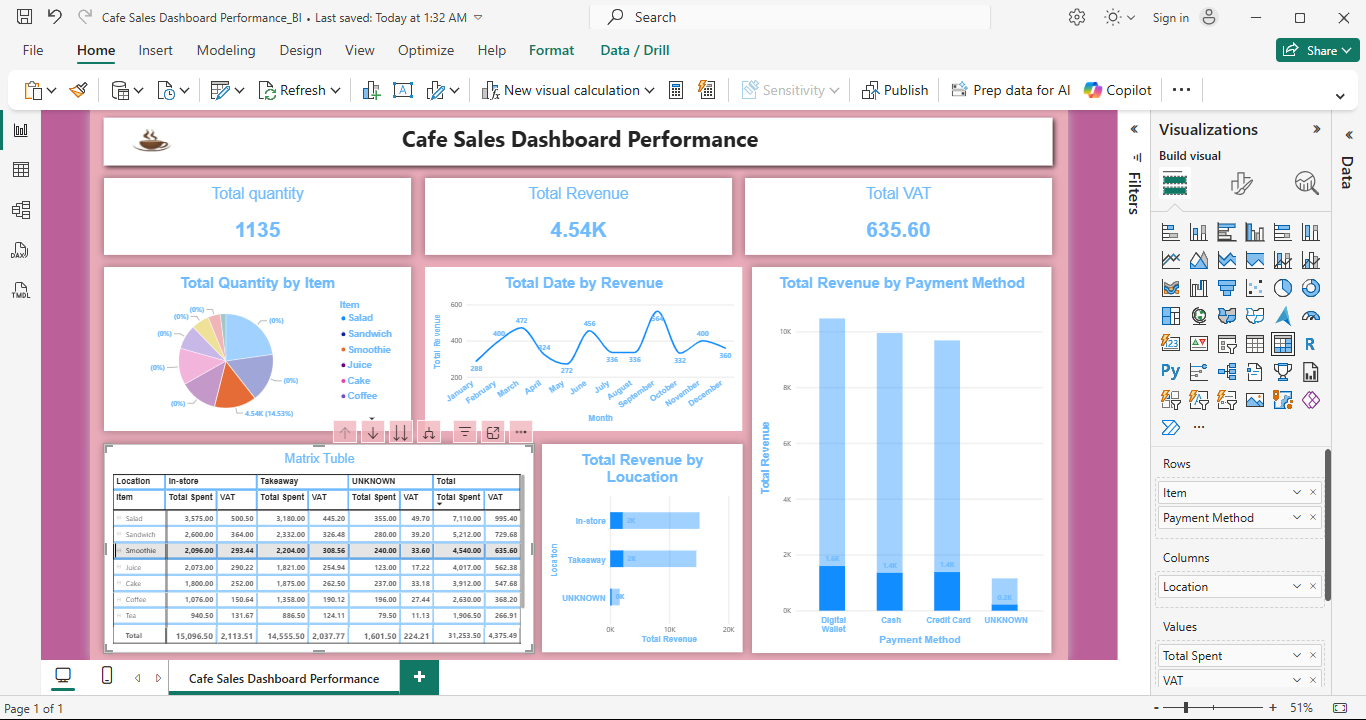

The page's visual inventory and layout, read from the dashboard file:
{"tool":"powerbi","page":{"name":"Cafe Sales Dashboard Performance ","canvas":[1920,1080],"ordinal":0},"visuals":[{"type":"pieChart","title":"Total  Quantity by Item","fields":{"Category":["Cafe_sales_clean.Item"],"Y":["Sum(Cafe_sales_clean.Total Spent)"]},"box":[26.8,307.6,602.8,322.1],"z":0},{"type":"shape","box":[12.4,0,1893.2,123.9],"z":1000},{"type":"textbox","box":[46.3,15.4,1842.6,92.6],"z":2000},{"type":"card","title":"Total quantity","fields":{"Values":["Sum(Cafe_sales_clean.Quantity)"]},"box":[26.8,134.2,602.8,150.7],"z":3000},{"type":"card","title":"Total VAT","fields":{"Values":["Cafe_sales_clean.VAT"]},"box":[1286.2,134.2,602.8,150.7],"z":4000},{"type":"card","title":"Total Revenue","fields":{"Values":["Sum(Cafe_sales_clean.Total Spent)"]},"box":[658.6,134.2,602.8,150.7],"z":5000},{"type":"lineChart","title":"Total  Date by Revenue","fields":{"Category":["Cafe_sales_clean.Transaction Date.Variation.Date Hierarchy.Year","Cafe_sales_clean.Transaction Date.Variation.Date Hierarchy.Quarter","Cafe_sales_clean.Transaction Date.Variation.Date Hierarchy.Month"],"Y":["Sum(Cafe_sales_clean.Total Spent)"]},"box":[658.6,307.6,623.5,322.1],"z":6000},{"type":"pivotTable","title":"Matrix Tuble","fields":{"Columns":["Cafe_sales_clean.Location"],"Rows":["Cafe_sales_clean.Item","Cafe_sales_clean.Payment Method"],"Values":["Sum(Cafe_sales_clean.Total Spent)","Cafe_sales_clean.VAT"]},"box":[26.8,656.5,844.4,408.8],"z":7000},{"type":"columnChart","title":"Total Revenue by Payment Method","fields":{"Category":["Cafe_sales_clean.Payment Method"],"Y":["Sum(Cafe_sales_clean.Total Spent)"]},"box":[1300.6,307.6,588.4,757.7],"z":8000},{"type":"barChart","title":"Total Revenue by  Loucation","fields":{"Category":["Cafe_sales_clean.Location"],"Y":["Sum(Cafe_sales_clean.Total Spent)"]},"box":[887.7,656.5,394.3,408.8],"z":8001},{"type":"image","box":[46.3,15.4,147.7,90.4],"z":8002}]}

Visuals, with their boxes on the page's 1920x1080 design canvas (x1, y1, x2, y2). These are canvas units, not pixel positions in the 1366x720 screenshot, which may show the page scaled, cropped or inside an application window:
"Total  Quantity by Item" pieChart: 27/308/630/630
shape: 12/0/1906/124
textbox: 46/15/1889/108
"Total quantity" card: 27/134/630/285
"Total VAT" card: 1286/134/1889/285
"Total Revenue" card: 659/134/1261/285
"Total  Date by Revenue" lineChart: 659/308/1282/630
"Matrix Tuble" pivotTable: 27/656/871/1065
"Total Revenue by Payment Method" columnChart: 1301/308/1889/1065
"Total Revenue by  Loucation" barChart: 888/656/1282/1065
image: 46/15/194/106
